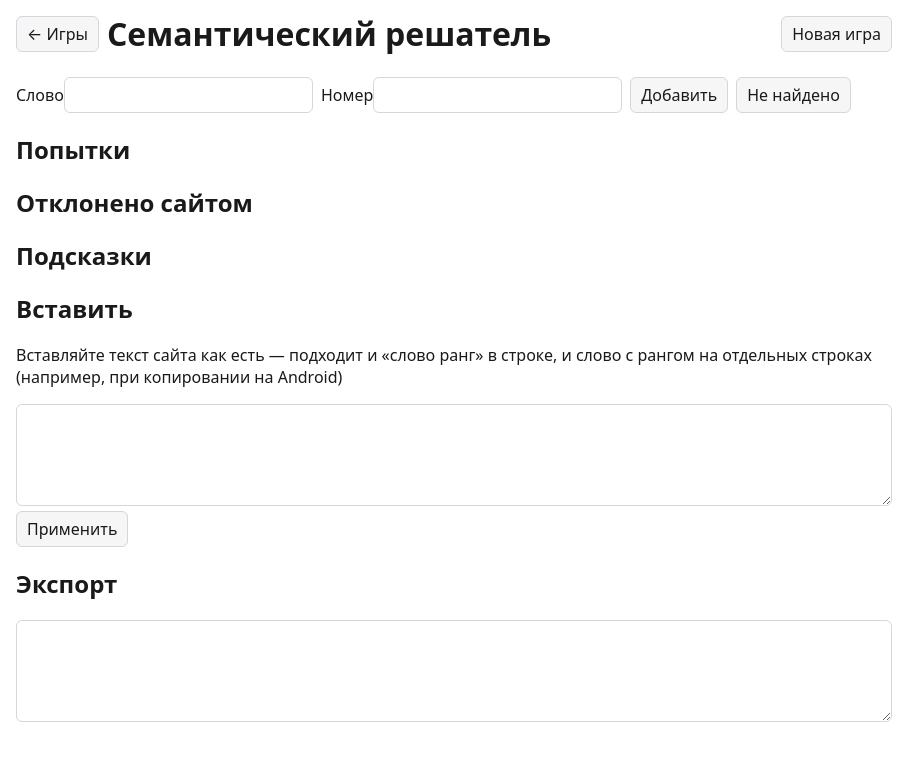
Test case: SemanticScreen › rejects a rank below 1
In the field labelled "Слово": (188, 95) [64, 77, 313, 113], type "снег"
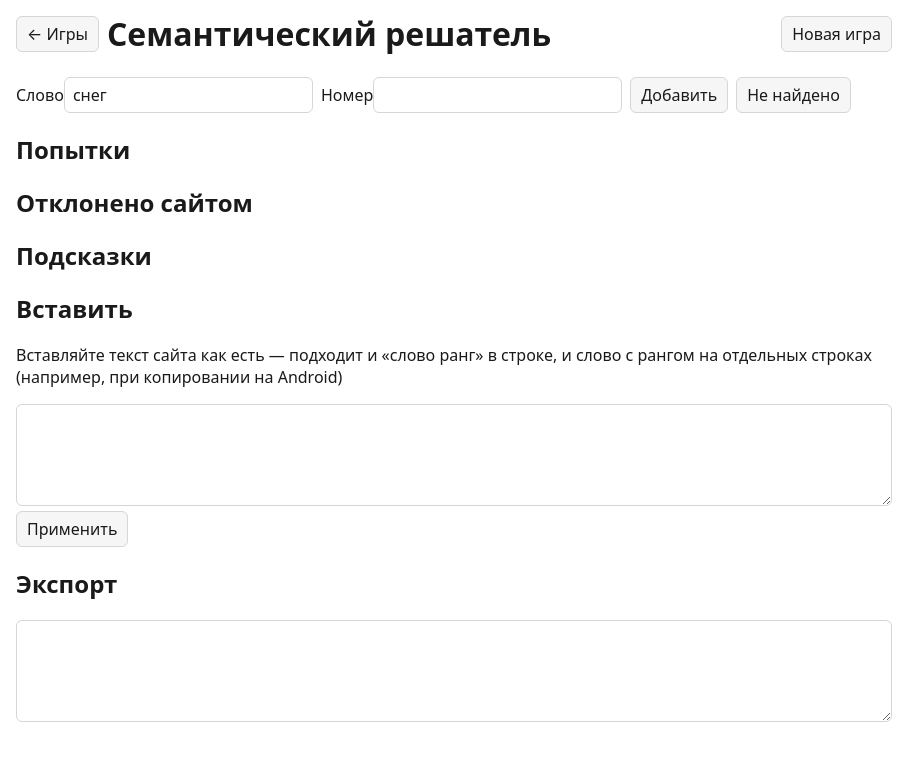
In the field labelled "Номер": (498, 95) [373, 77, 622, 113], type "0"
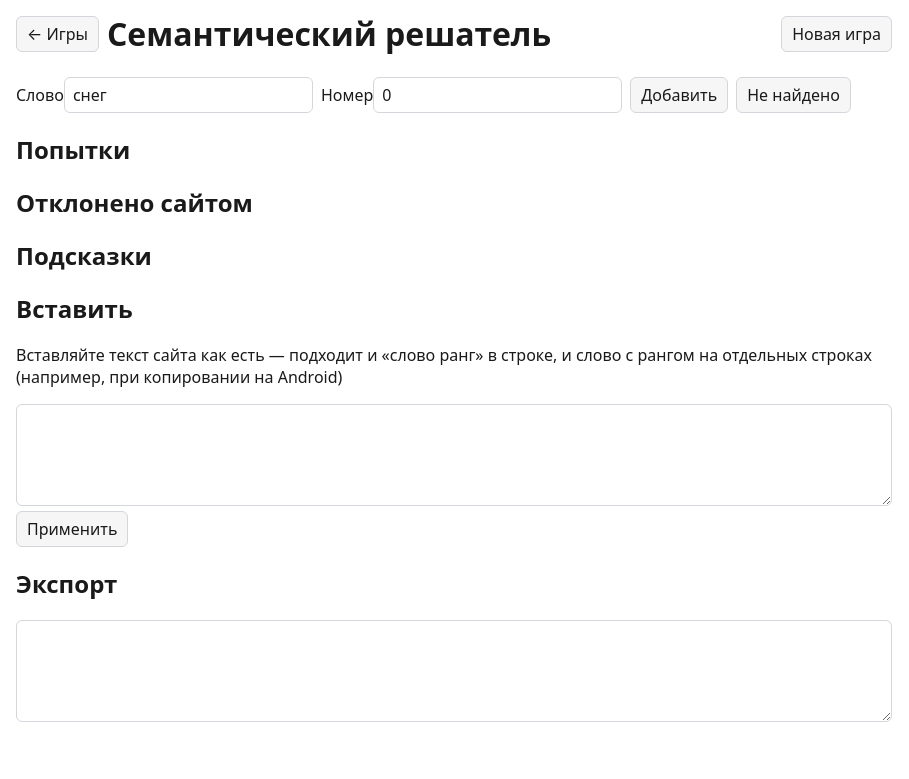
Click the button "Добавить": (679, 95) [630, 77, 728, 113]
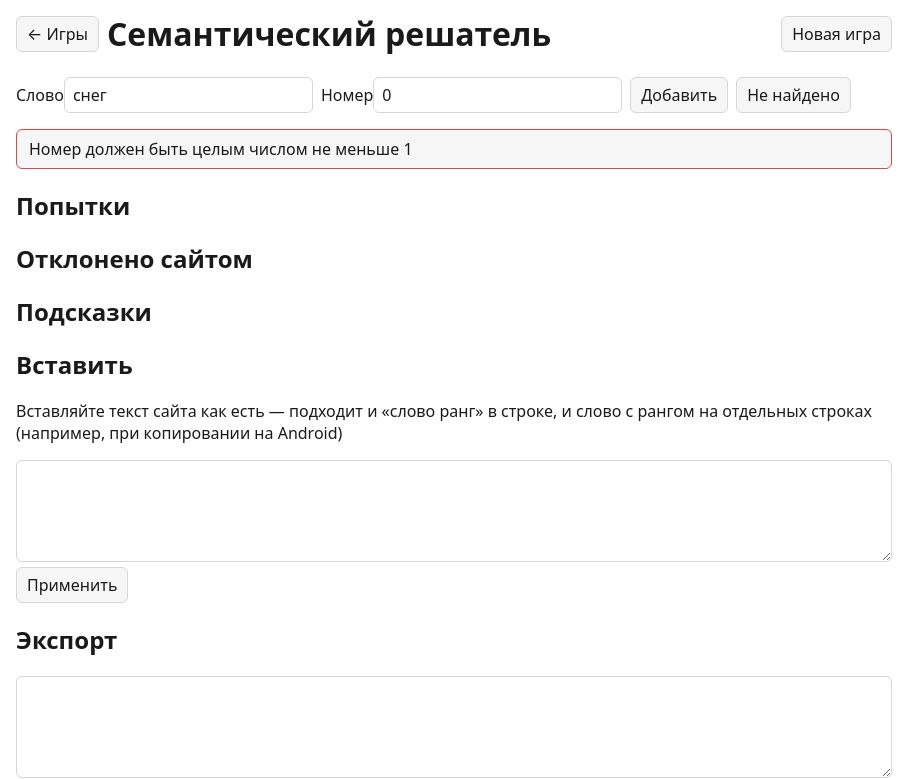
expect the message "Номер должен быть целым числом не меньше 1" is shown: met, box [16, 129, 892, 169]
